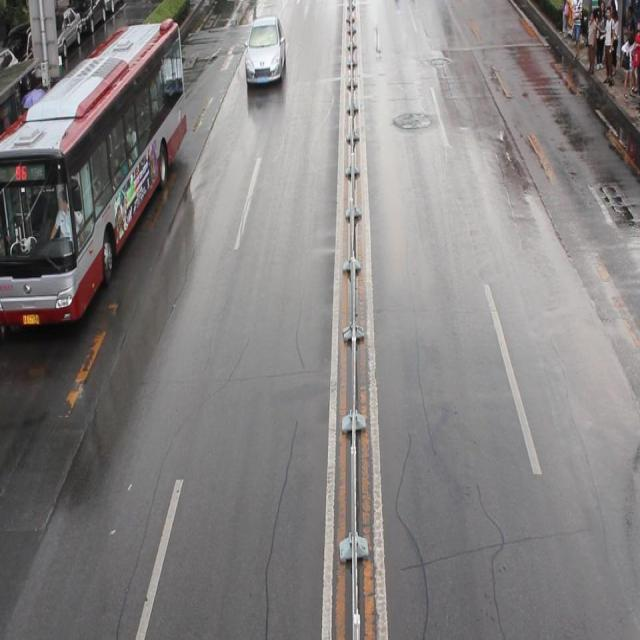car: (245, 17, 284, 84)
van: (1, 17, 186, 321)
